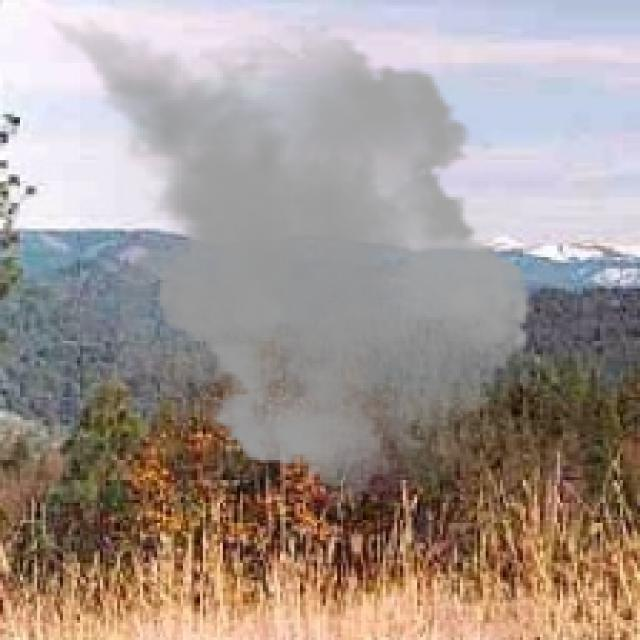Smoke: (23, 6, 546, 523)
